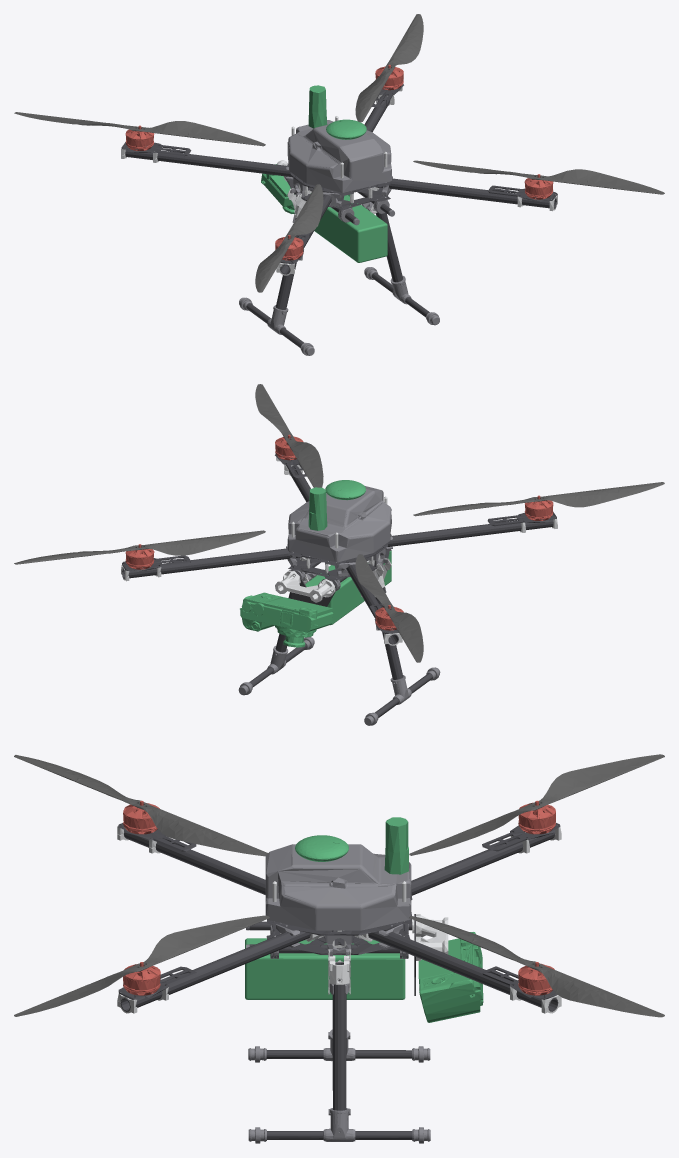
Rendered from tarot650.glb.
The picture shows the model from 3 angles, top to bottom: view 1: azimuth 30°, elevation 25°; view 2: azimuth 150°, elevation 25°; view 3: azimuth 270°, elevation 25°; orthographic projection. The views are drawn at different scales.
Parts seen in each view (by area): view 1: Capota 1, Bateria GensAce 14V 11000, 15x5 v1 #4, 15x5 v1 #3, 15x5 v1 #2, 15x5 v1 #1, Brazo 1 / CarbonArm, Brazo 4 / CarbonArm, ANTENA HELICOIDAL BEITIAN BT-560, SONY A6000, GPS Neo V2 CUAV, Lower Base (+1 smaller); view 2: Capota 1, SONY A6000, 15x5 v1 #2, 15x5 v1 #1, 15x5 v1 #3, 15x5 v1 #4, Brazo 3 / CarbonArm, Brazo 2 / CarbonArm, Bateria GensAce 14V 11000, Buje, ANTENA HELICOIDAL BEITIAN BT-560, GPS Neo V2 CUAV (+2 smaller); view 3: Capota 1, Bateria GensAce 14V 11000, SONY A6000, 15x5 v1 #1, 15x5 v1 #3, 15x5 v1 #2, 15x5 v1 #4, Brazo 1 / CarbonArm, Brazo 2 / CarbonArm, Tren de aterrizaje 2 / 20021-010_leg v1, Brazo 4 / CarbonArm, Brazo 3 / CarbonArm (+12 smaller).
Part boxes in pixels (left/top/right/bottom): Capota 1: left=287, top=120, right=391, bottom=192; Bateria GensAce 14V 11000: left=314, top=195, right=387, bottom=262; 15x5 v1 #4: left=413, top=160, right=664, bottom=194; 15x5 v1 #3: left=14, top=112, right=265, bottom=146; 15x5 v1 #2: left=255, top=184, right=323, bottom=292; 15x5 v1 #1: left=355, top=14, right=423, bottom=122; Brazo 1 / CarbonArm: left=376, top=178, right=556, bottom=208; Brazo 4 / CarbonArm: left=125, top=149, right=292, bottom=177; ANTENA HELICOIDAL BEITIAN BT-560: left=308, top=85, right=327, bottom=128; SONY A6000: left=261, top=164, right=350, bottom=213; GPS Neo V2 CUAV: left=326, top=119, right=366, bottom=139; Lower Base: left=287, top=179, right=391, bottom=210; Capota 1: left=287, top=485, right=391, bottom=562; SONY A6000: left=240, top=592, right=333, bottom=647; 15x5 v1 #2: left=413, top=482, right=664, bottom=516; 15x5 v1 #1: left=14, top=530, right=265, bottom=564; 15x5 v1 #3: left=355, top=554, right=423, bottom=662; 15x5 v1 #4: left=255, top=384, right=323, bottom=487; Brazo 3 / CarbonArm: left=387, top=519, right=553, bottom=546; Brazo 2 / CarbonArm: left=122, top=548, right=302, bottom=578; Bateria GensAce 14V 11000: left=305, top=550, right=391, bottom=625; Buje: left=275, top=571, right=335, bottom=602; ANTENA HELICOIDAL BEITIAN BT-560: left=308, top=487, right=327, bottom=530; GPS Neo V2 CUAV: left=325, top=480, right=365, bottom=500; Capota 1: left=265, top=844, right=411, bottom=930; Bateria GensAce 14V 11000: left=245, top=938, right=405, bottom=999; SONY A6000: left=418, top=932, right=483, bottom=1022; 15x5 v1 #1: left=409, top=916, right=664, bottom=1017; 15x5 v1 #3: left=409, top=754, right=664, bottom=855; 15x5 v1 #2: left=14, top=755, right=268, bottom=856; 15x5 v1 #4: left=14, top=915, right=269, bottom=1016; Brazo 1 / CarbonArm: left=120, top=931, right=310, bottom=1011; Brazo 2 / CarbonArm: left=368, top=931, right=558, bottom=1011; Tren de aterrizaje 2 / 20021-010_leg v1: left=332, top=962, right=346, bottom=1110; Brazo 4 / CarbonArm: left=411, top=832, right=554, bottom=895; Brazo 3 / CarbonArm: left=124, top=832, right=265, bottom=894.
Bounding box in the file's own units: 0.6902 × 0.3443 × 0.7239.
